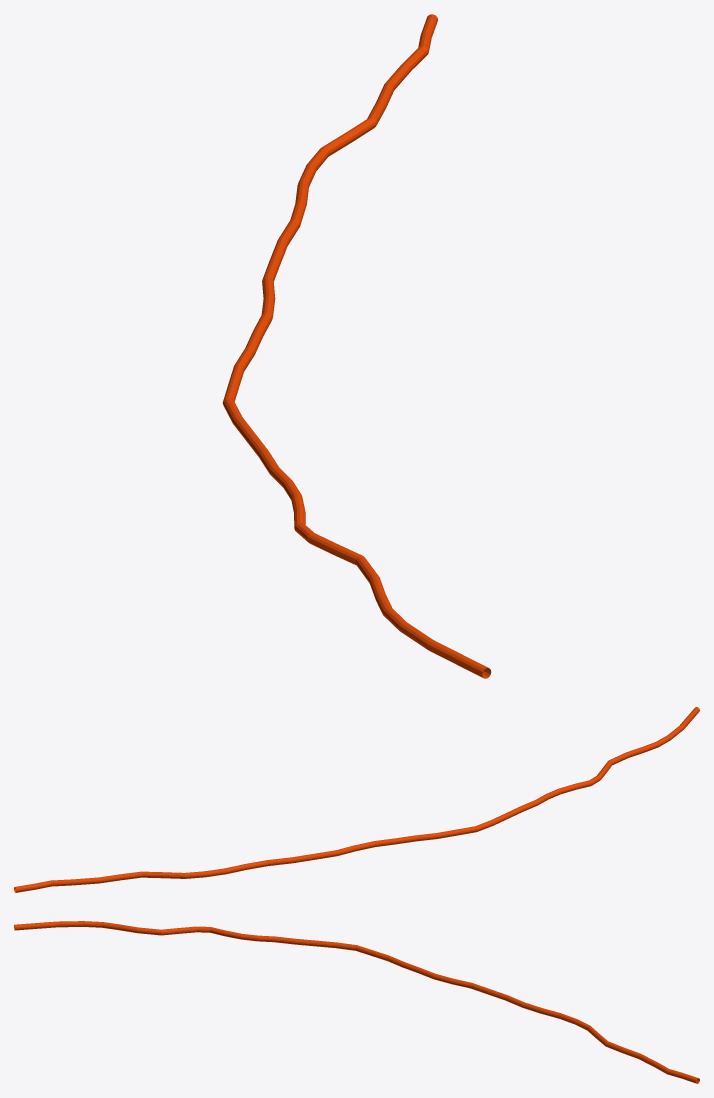
File: Cable3.fbx
3 views of the same model, one above another, from view 1: azimuth 30°, elevation 25°; view 2: azimuth 150°, elevation 25°; view 3: azimuth 270°, elevation 25° (orthographic). The views are drawn at different scales.
Visible parts, largest first — view 1: Vert.002; view 2: Vert.002; view 3: Vert.002.
Part boxes in pixels (x1,y1,x2,y2): Vert.002: (222, 14, 491, 678); Vert.002: (14, 707, 699, 892); Vert.002: (14, 921, 699, 1083).
Size of the model in its own units: 129 by 2 by 234.
